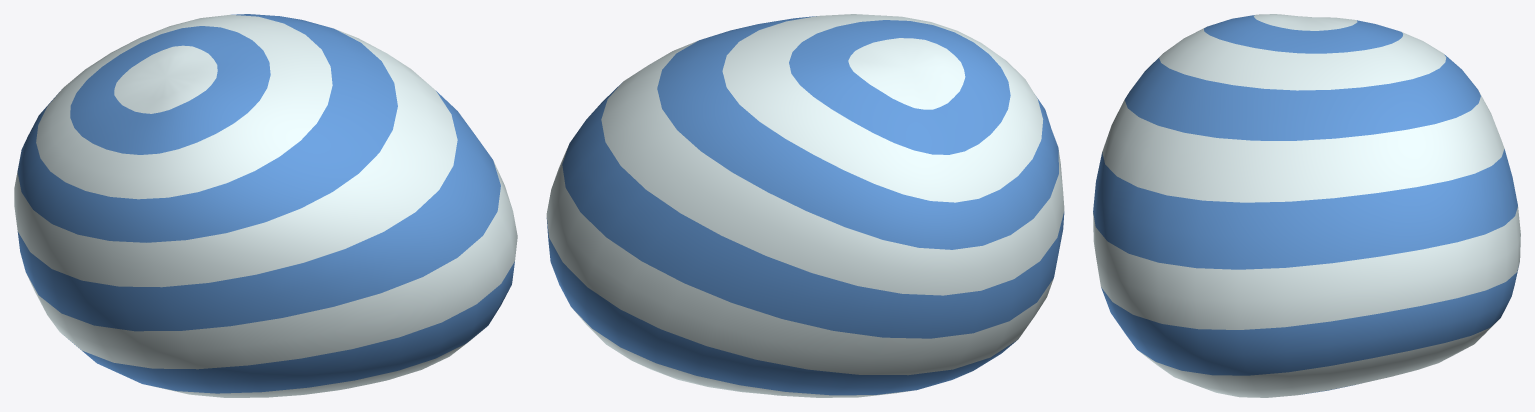
The model's file is CandyPlant_B_01.fbx.
3 renders of one model, left to right at view 1: azimuth 30°, elevation 25°; view 2: azimuth 150°, elevation 25°; view 3: azimuth 270°, elevation 25°, orthographic. The views are drawn at different scales.
Parts seen in each view (by area): view 1: CandyPlant_B_01_LOD0; view 2: CandyPlant_B_01_LOD0; view 3: CandyPlant_B_01_LOD0.
Boxes of the visible parts, x1=… form: CandyPlant_B_01_LOD0: x1=14, y1=14, x2=517, y2=397; CandyPlant_B_01_LOD0: x1=546, y1=14, x2=1064, y2=397; CandyPlant_B_01_LOD0: x1=1093, y1=14, x2=1520, y2=397.
Size of what is drawn, in the model's own units: 488 by 334 by 444.
